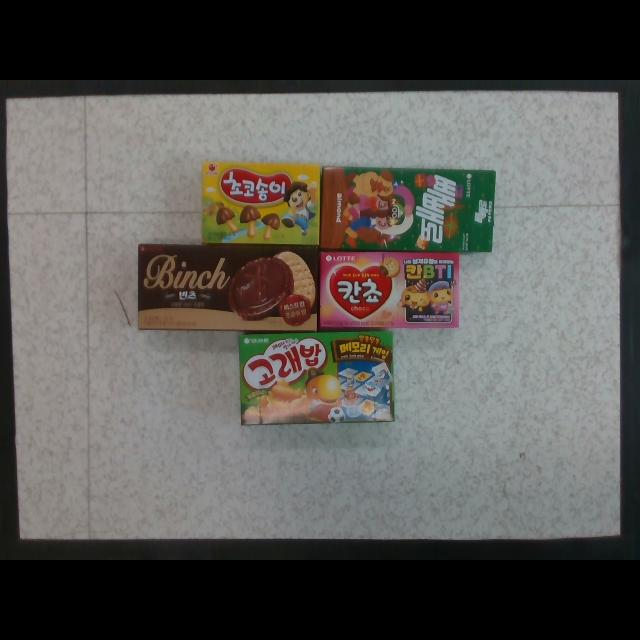box: (138, 246, 319, 330), (323, 166, 496, 252), (239, 331, 394, 424), (320, 252, 460, 328), (204, 162, 322, 244)
